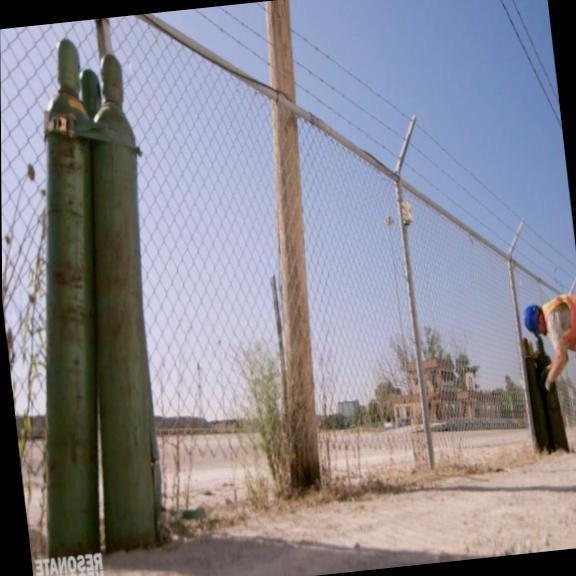safety_vest: (539, 290, 576, 359)
